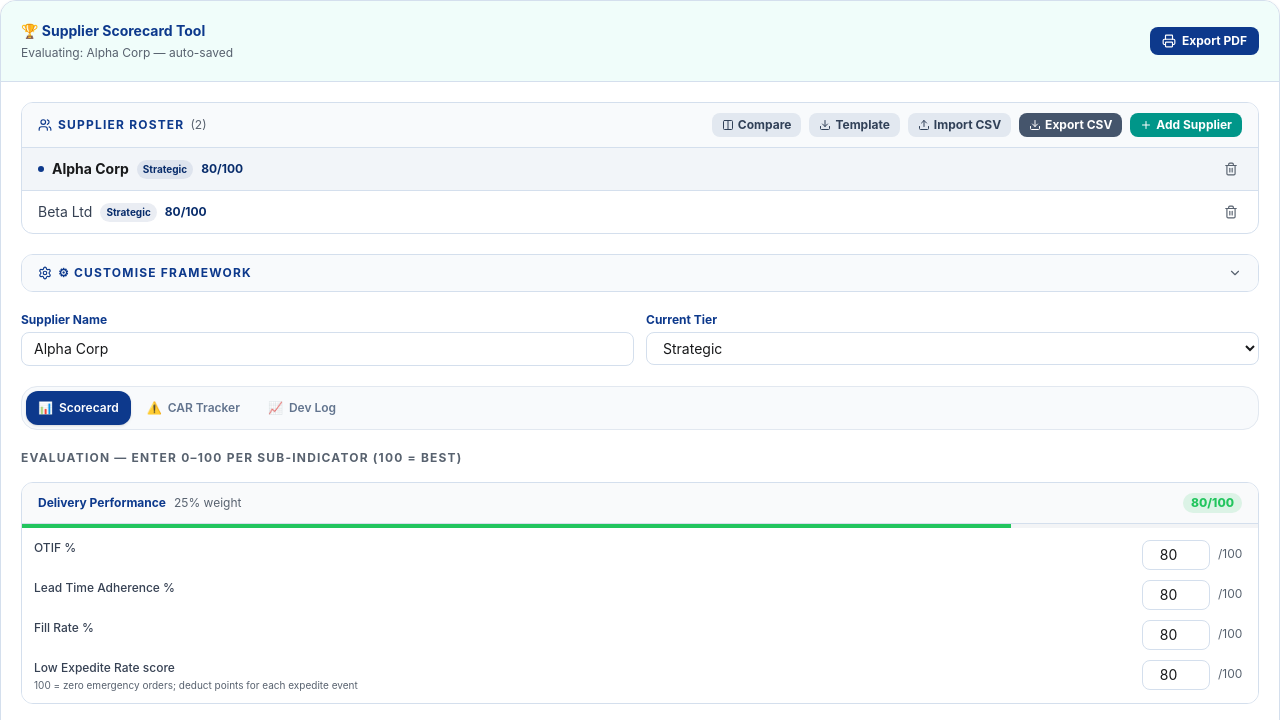
it: Comparison table — Winner column, English mode › shows "Tie" for every dimension row when both suppliers have identical sub-indicator values
Step 1. Click the button "Compare" → (757,125), box x1=712 y1=113 x2=801 y2=137
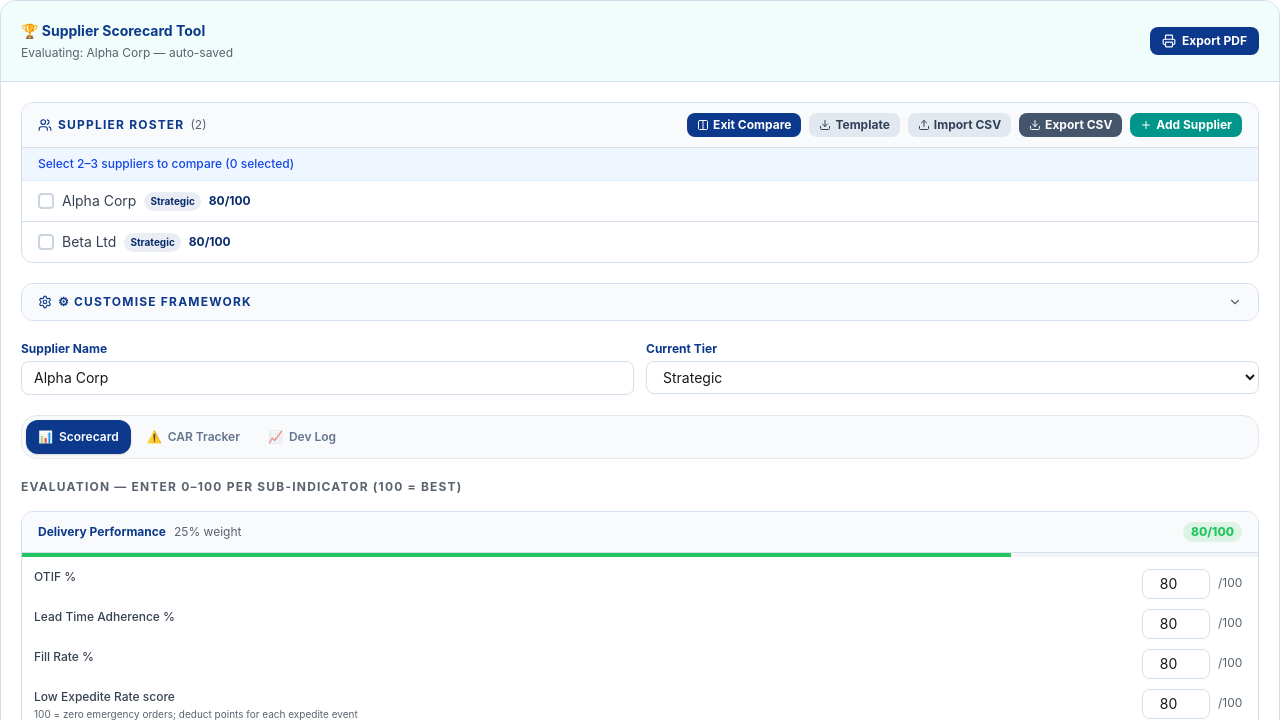
Step 2. Click the text "Alpha Corp" → (99,201), box x1=62 y1=191 x2=136 y2=211
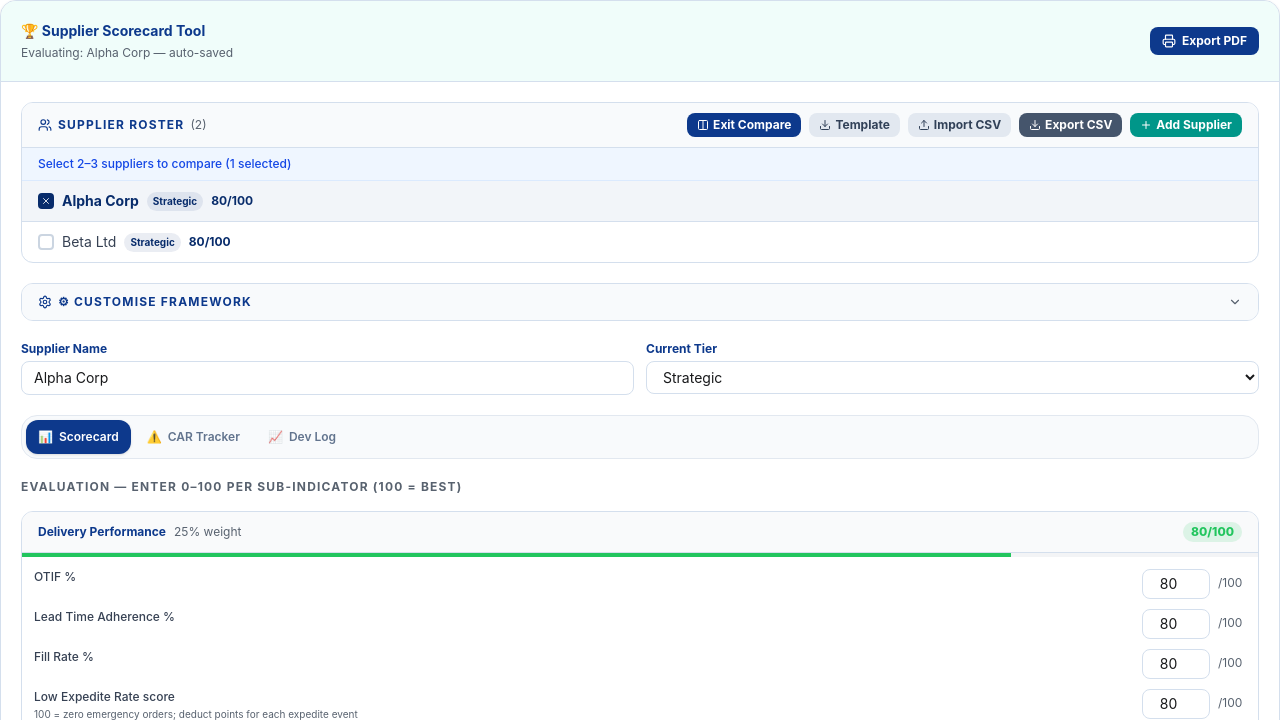
Step 3. Click the text "Beta Ltd" → (89,242), box x1=62 y1=232 x2=116 y2=252
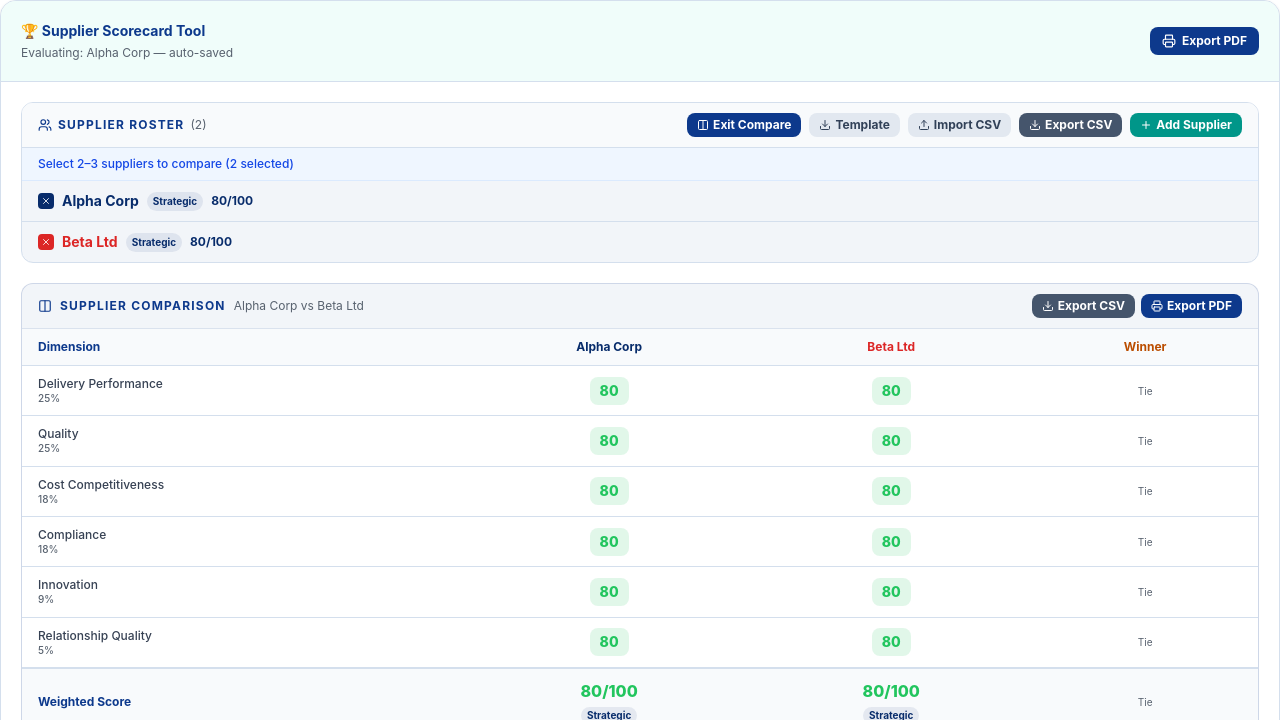
Expected: the column heading "Winner" is shown, x1=1032 y1=329 x2=1258 y2=366
